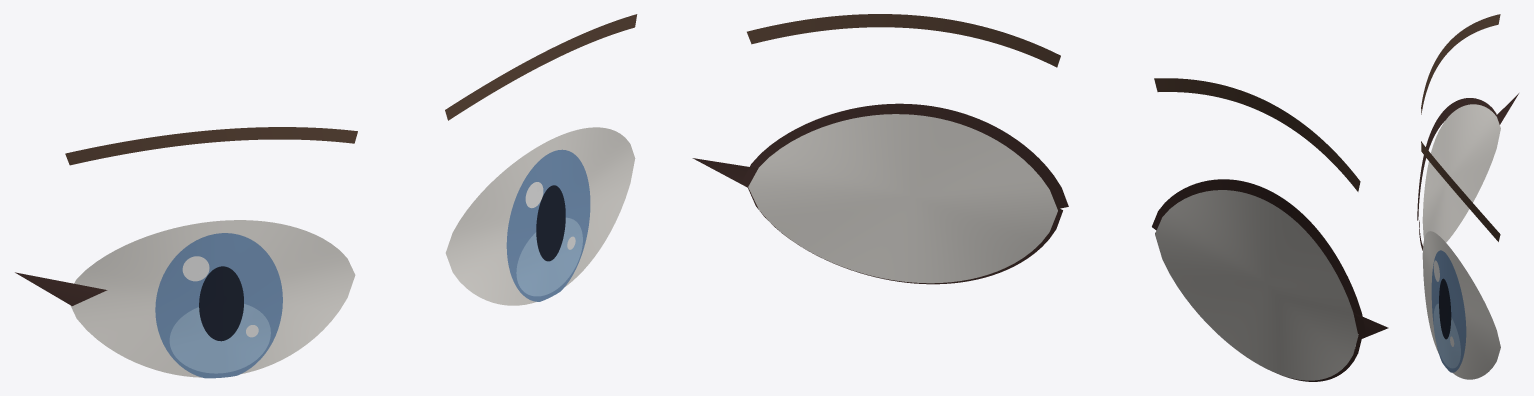
3 views of the same model, side by side, from view 1: azimuth 30°, elevation 25°; view 2: azimuth 150°, elevation 25°; view 3: azimuth 270°, elevation 25° (orthographic). The views are drawn at different scales.
Parts seen in each view (by area): view 1: Eye_White_-1, Eye_White_1, Eye_Iris_-1, Eye_Iris_1, Eye_Iris_Light_-1, Eyebrow_-1, Eye_Iris_Light_1, Eye_Pupil_-1, Eyebrow_1, Eye_Pupil_1, Eye_LashWing_-1, Eye_Glint_-1_0; view 2: Eye_White_1, Eye_White_-1, Eyebrow_1, Eye_UpperLid_1, Eye_UpperLid_-1, Eyebrow_-1, Eye_LowerLid_1, Eye_LashWing_1; view 3: Eye_White_-1, Eye_White_1, Eye_Iris_1, Eye_Iris_Light_1, Eyebrow_-1, Eyebrow_1, Eye_UpperLid_-1, Eye_Pupil_1, Eye_LashWing_-1, Eye_Glint_1_0.
Part boxes in pixels (x1,y1,x2,y2): Eye_White_-1: (70, 220, 355, 377); Eye_White_1: (445, 127, 635, 305); Eye_Iris_-1: (155, 233, 282, 378); Eye_Iris_1: (506, 149, 590, 301); Eye_Iris_Light_-1: (169, 304, 270, 373); Eyebrow_-1: (65, 127, 357, 165); Eye_Iris_Light_1: (516, 217, 582, 296); Eye_Pupil_-1: (199, 266, 243, 341); Eyebrow_1: (445, 14, 637, 120); Eye_Pupil_1: (536, 185, 565, 261); Eye_LashWing_-1: (15, 272, 107, 305); Eye_Glint_-1_0: (182, 256, 209, 281); Eye_White_1: (748, 114, 1057, 283); Eye_White_-1: (1155, 190, 1358, 380); Eyebrow_1: (747, 14, 1060, 67); Eye_UpperLid_1: (742, 103, 1068, 208); Eye_UpperLid_-1: (1152, 179, 1365, 333); Eyebrow_-1: (1154, 78, 1360, 191); Eye_LowerLid_1: (747, 186, 1062, 284); Eye_LashWing_1: (692, 158, 758, 187); Eye_White_-1: (1422, 104, 1500, 242); Eye_White_1: (1422, 231, 1500, 379); Eye_Iris_1: (1431, 250, 1466, 372); Eye_Iris_Light_1: (1433, 303, 1460, 368); Eyebrow_-1: (1421, 14, 1500, 114); Eyebrow_1: (1421, 141, 1500, 241); Eye_UpperLid_-1: (1417, 98, 1499, 220); Eye_Pupil_1: (1439, 278, 1451, 339); Eye_LashWing_-1: (1496, 93, 1518, 124); Eye_Glint_1_0: (1433, 260, 1439, 281).
Size of the model in its own units: 0.418 by 0.1544 by 0.0725.
